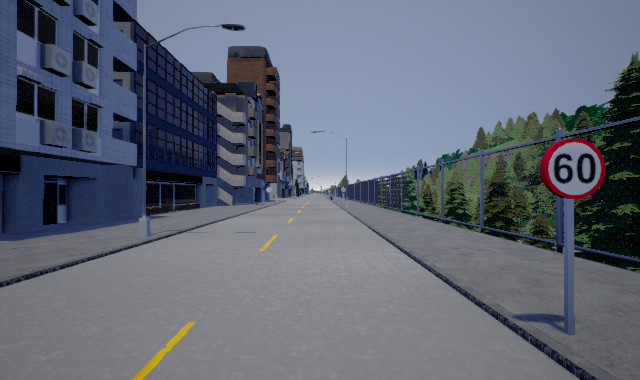traffic_sign: (540, 138, 605, 199)
